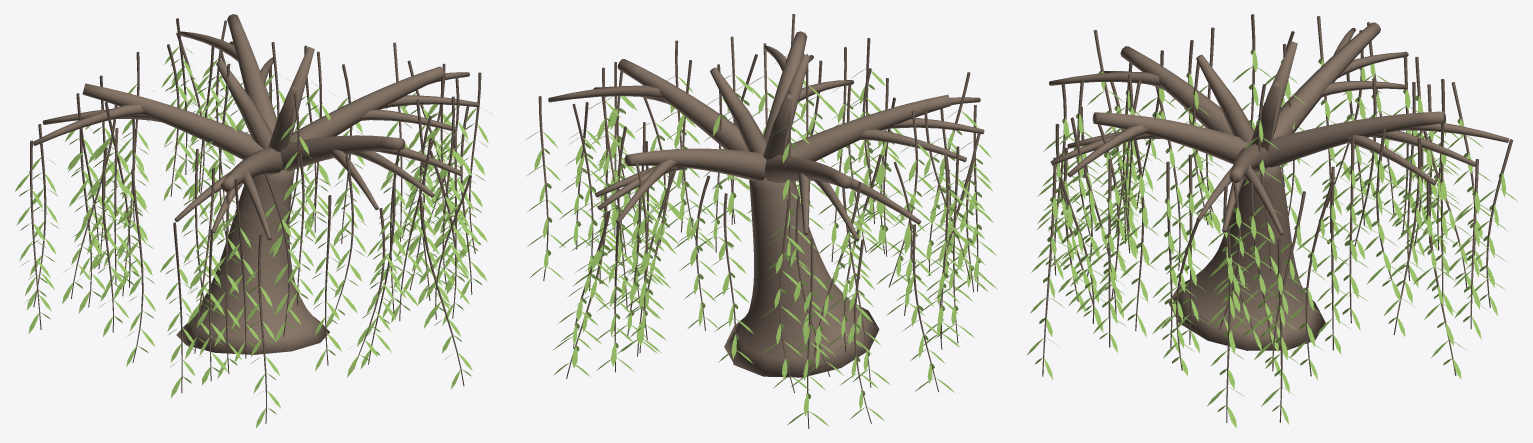
File: canopy_weeping_willow.glb
3 renders of one model, left to right at view 1: azimuth 30°, elevation 25°; view 2: azimuth 150°, elevation 25°; view 3: azimuth 270°, elevation 25°, orthographic. The views are drawn at different scales.
Parts seen in each view (by area): view 1: Flora_Weeping_Willow; view 2: Flora_Weeping_Willow; view 3: Flora_Weeping_Willow.
Part boxes in pixels (left/top/right/bottom): Flora_Weeping_Willow: left=15, top=14, right=492, bottom=428; Flora_Weeping_Willow: left=525, top=14, right=997, bottom=428; Flora_Weeping_Willow: left=1026, top=14, right=1517, bottom=428.
Bounding box in the file's own units: 10.89 × 6.29 × 10.1.
